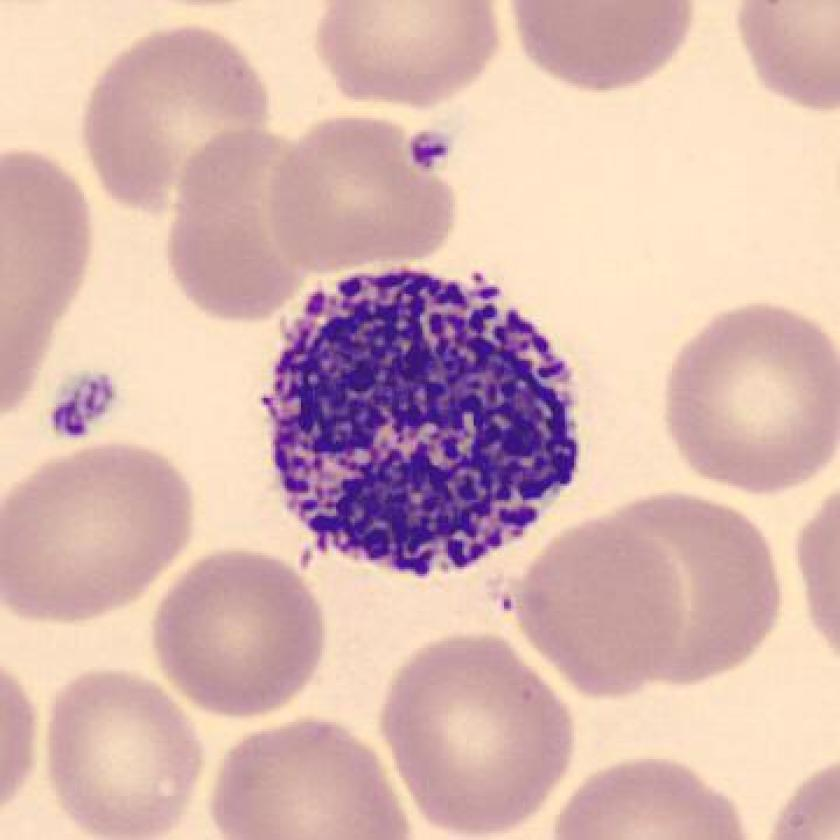basophil: (258, 246, 594, 582)
